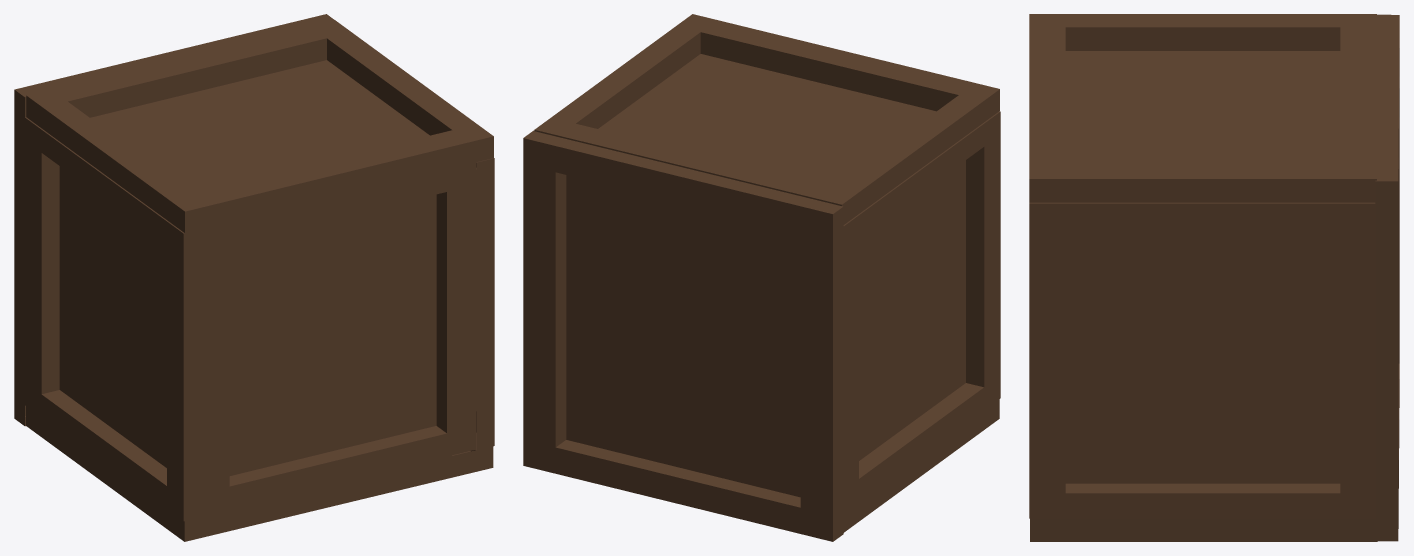
Rendered from Crate.fbx.
The picture shows the model from 3 angles, left to right: view 1: azimuth 30°, elevation 25°; view 2: azimuth 150°, elevation 25°; view 3: azimuth 270°, elevation 25°; orthographic projection. The views are drawn at different scales.
Visible parts, largest first — view 1: Plane, Plane.003, Plane.002, Plane.004, Plane.005, Plane.001; view 2: Plane.005, Plane.003, Plane.002, Plane.004; view 3: Plane.001, Plane.003, Plane.005, Plane.004.
Boxes of the visible parts, x1,y1,x2,y2 form: Plane: (202, 162, 475, 515); Plane.003: (26, 20, 493, 233); Plane.002: (25, 117, 201, 521); Plane.004: (25, 406, 493, 541); Plane.005: (14, 14, 334, 426); Plane.001: (475, 158, 494, 450); Plane.005: (523, 130, 843, 541); Plane.003: (534, 14, 999, 224); Plane.002: (843, 111, 1000, 512); Plane.004: (843, 399, 999, 532); Plane.001: (1029, 202, 1375, 518); Plane.003: (1029, 14, 1376, 202); Plane.005: (1375, 14, 1399, 541); Plane.004: (1030, 518, 1377, 541).
Size of the model in its own units: 443 by 451 by 417.
